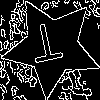T: (27, 21, 66, 72)
